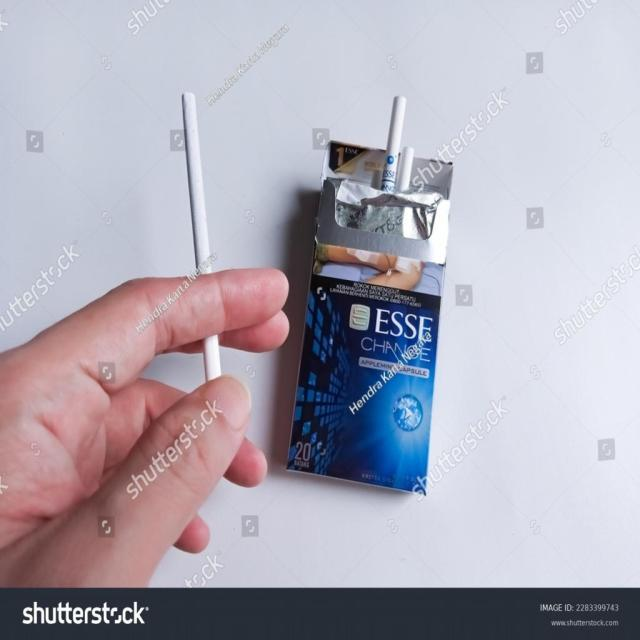smoking: (286, 88, 471, 494), (181, 91, 211, 265), (202, 335, 221, 381)
